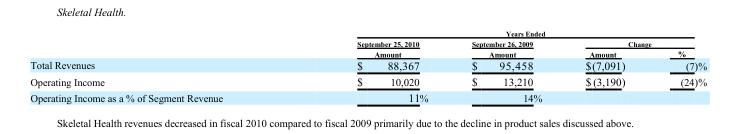table: (29, 29, 706, 103)
table column: (29, 29, 289, 103), (289, 29, 449, 103), (449, 29, 562, 103), (562, 29, 650, 103), (650, 29, 706, 103)
table column header: (29, 29, 706, 58)
table row: (29, 72, 706, 88), (29, 88, 706, 103), (29, 58, 706, 72), (29, 38, 706, 48), (29, 48, 706, 58), (29, 29, 706, 38)
table spanning cell: (289, 29, 706, 38), (289, 38, 449, 58), (449, 38, 562, 58), (562, 38, 706, 48)
